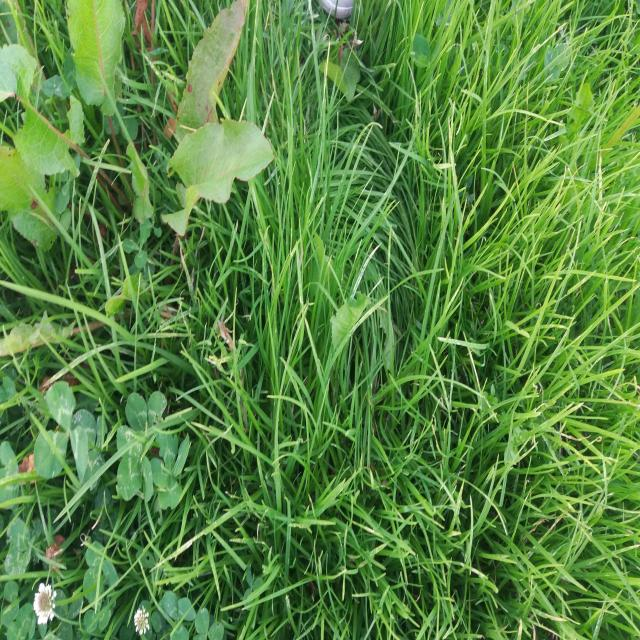Four Leaf Clover: (149, 429, 190, 510)
